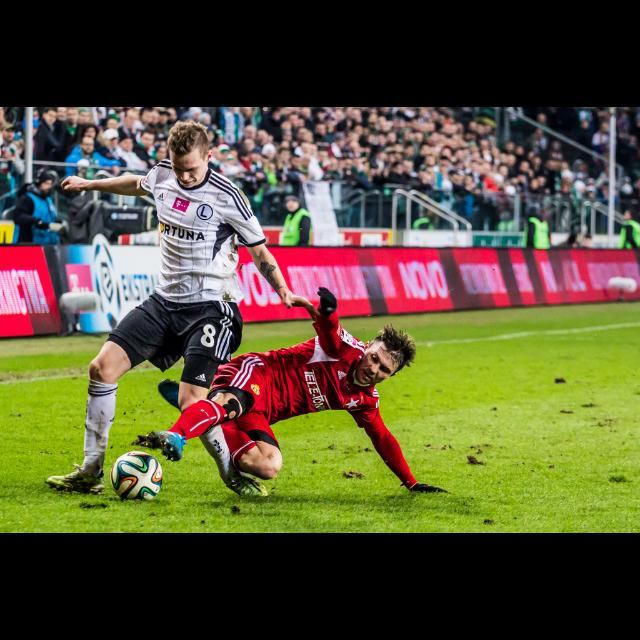Football: (110, 450, 160, 500)
